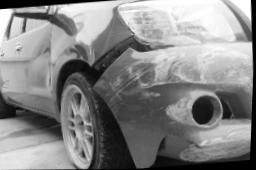Bumper: (89, 37, 253, 168)
